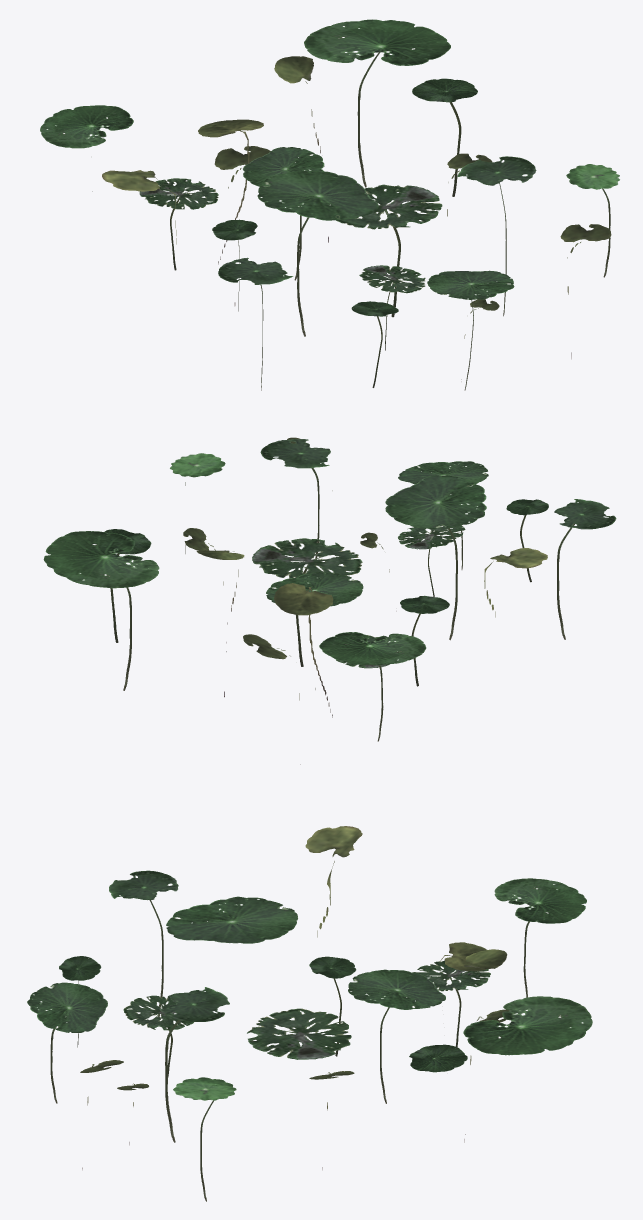
Rendered from arden_forest_water_plants_02.fbx.
3 renders of one model, top to bottom at view 1: azimuth 30°, elevation 25°; view 2: azimuth 150°, elevation 25°; view 3: azimuth 270°, elevation 25°, orthographic. The views are drawn at different scales.
Visible parts, largest first — view 1: arden_forest_water_plants_02; view 2: arden_forest_water_plants_02; view 3: arden_forest_water_plants_02.
Boxes of the visible parts, <box> form: arden_forest_water_plants_02: <box>40,19,619,390</box>; arden_forest_water_plants_02: <box>43,437,616,764</box>; arden_forest_water_plants_02: <box>27,826,592,1201</box>.
Bounding box in the file's own units: 122 × 56.92 × 133.
